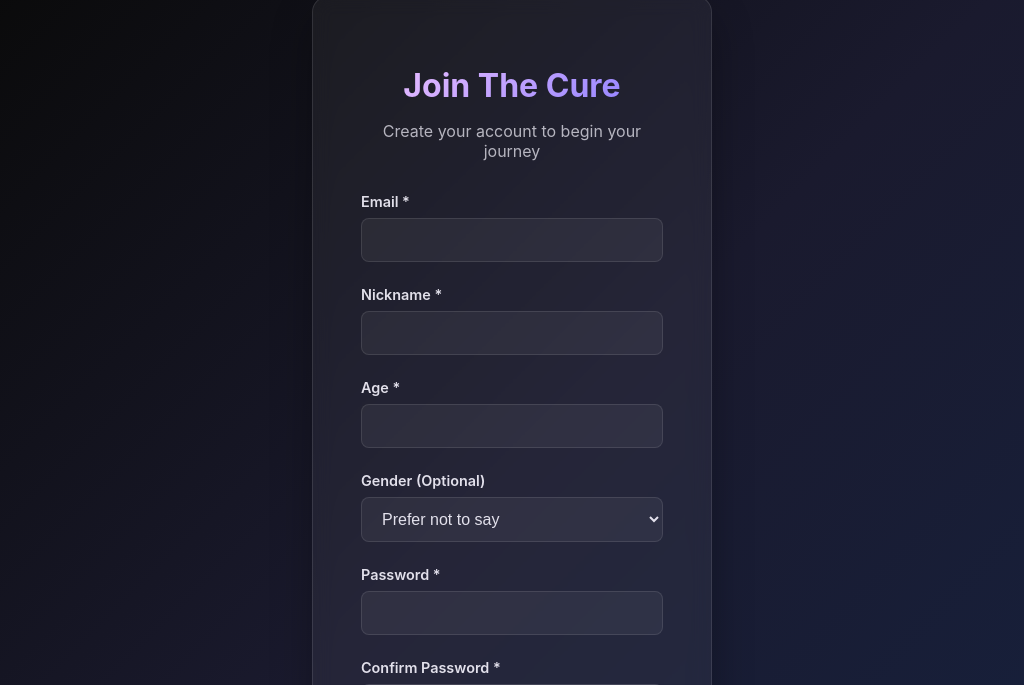
RegisterPage › validates nickname field
Type "A" into the field labelled "Nickname *".
click(512, 333); type("A")  # box [361, 311, 663, 355]
(page scrolled)
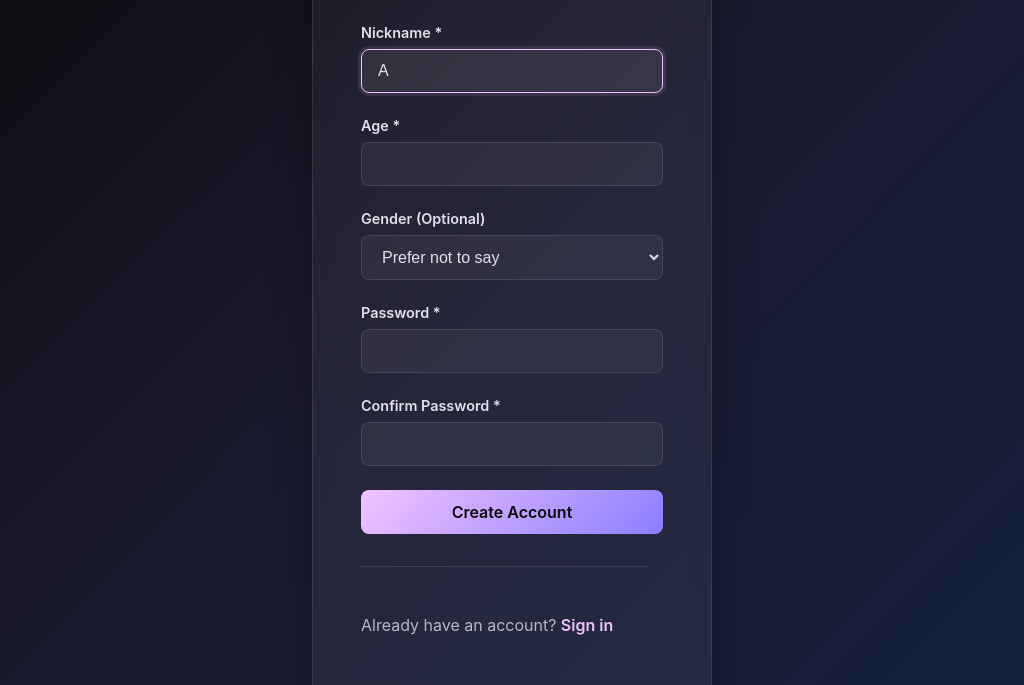
Click the button "Create Account".
click(512, 512)  # box [361, 490, 663, 534]
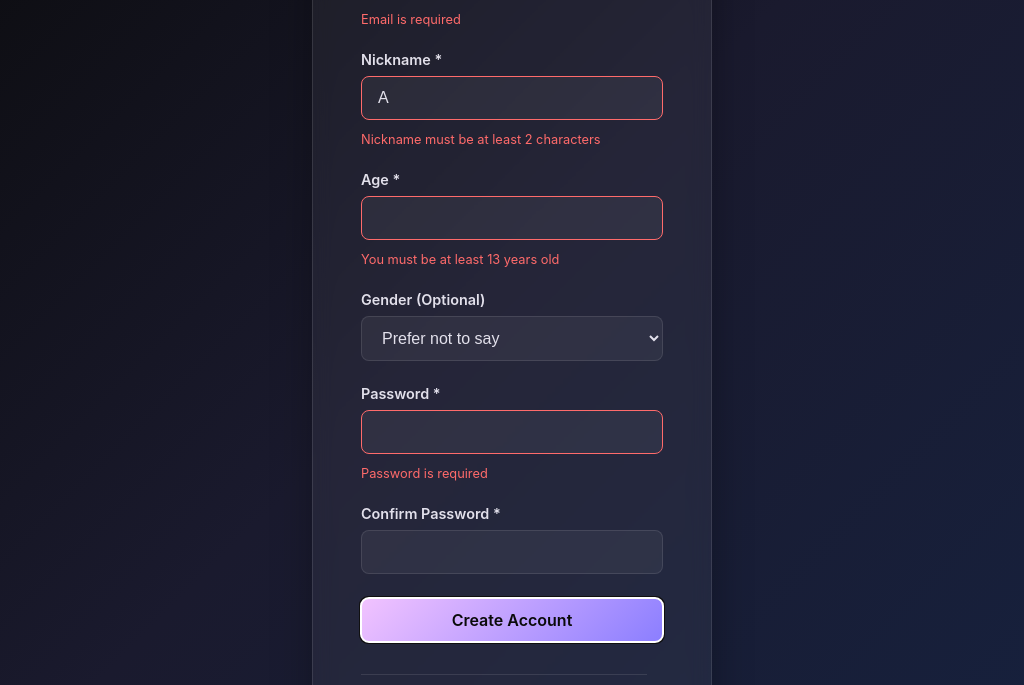
Check: the text "Nickname must be at least 2 characters" is shown, box [361, 132, 601, 147]
